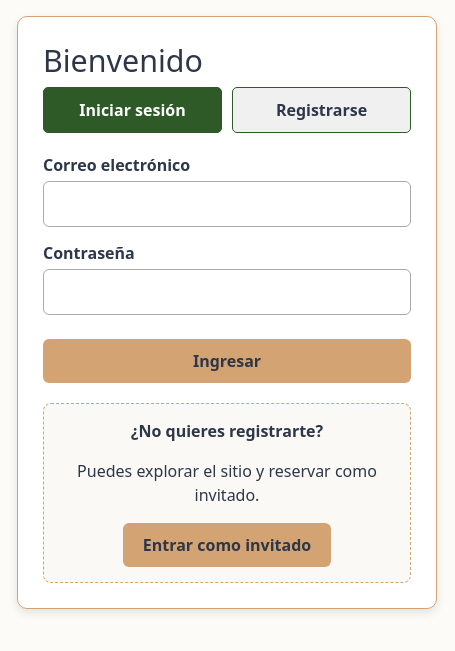
Scenario: Pruebas de navegador del inicio de sesión › PF-05: con campos vacíos muestra error y no crea sesión
Click the button "Ingresar" at (227, 360), box [43, 338, 411, 382]
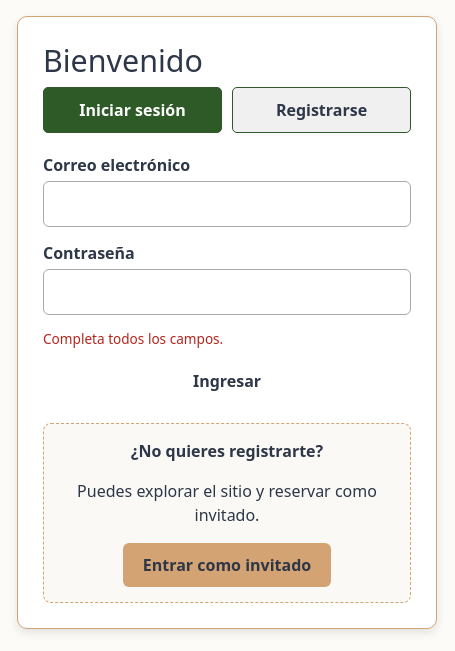
Expected: the message shows "Completa todos los campos", [43, 328, 223, 348]
